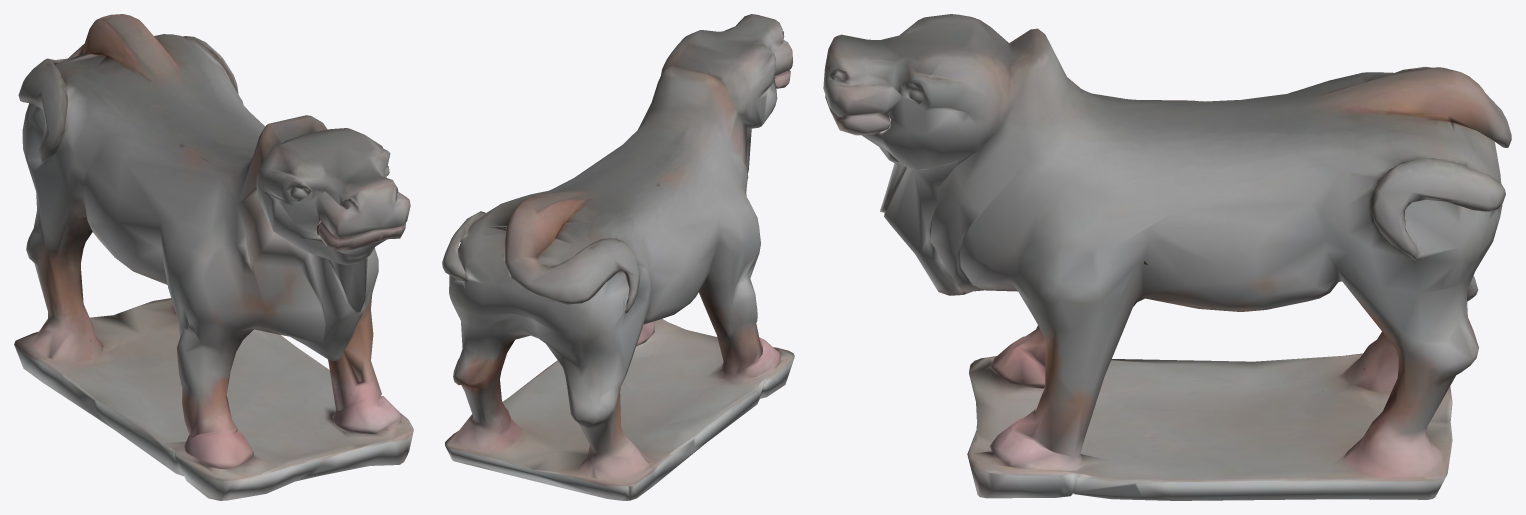
3 renders of one model, left to right at view 1: azimuth 30°, elevation 25°; view 2: azimuth 150°, elevation 25°; view 3: azimuth 270°, elevation 25°, orthographic. The views are drawn at different scales.
Visible parts, largest first — view 1: node_0; view 2: node_0; view 3: node_0.
Part boxes in pixels (x1,y1,x2,y2): node_0: [14, 14, 413, 500]; node_0: [442, 14, 794, 500]; node_0: [823, 14, 1511, 500].
Bounding box in the file's own units: 0.4438 × 0.6848 × 1.03.
1 material, 1 textured.
